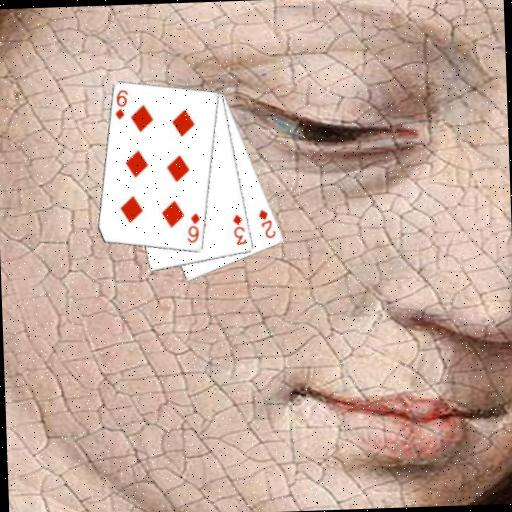2D: (255, 206, 278, 240)
3D: (230, 211, 248, 247)
6D: (111, 86, 130, 121), (184, 209, 202, 244)
